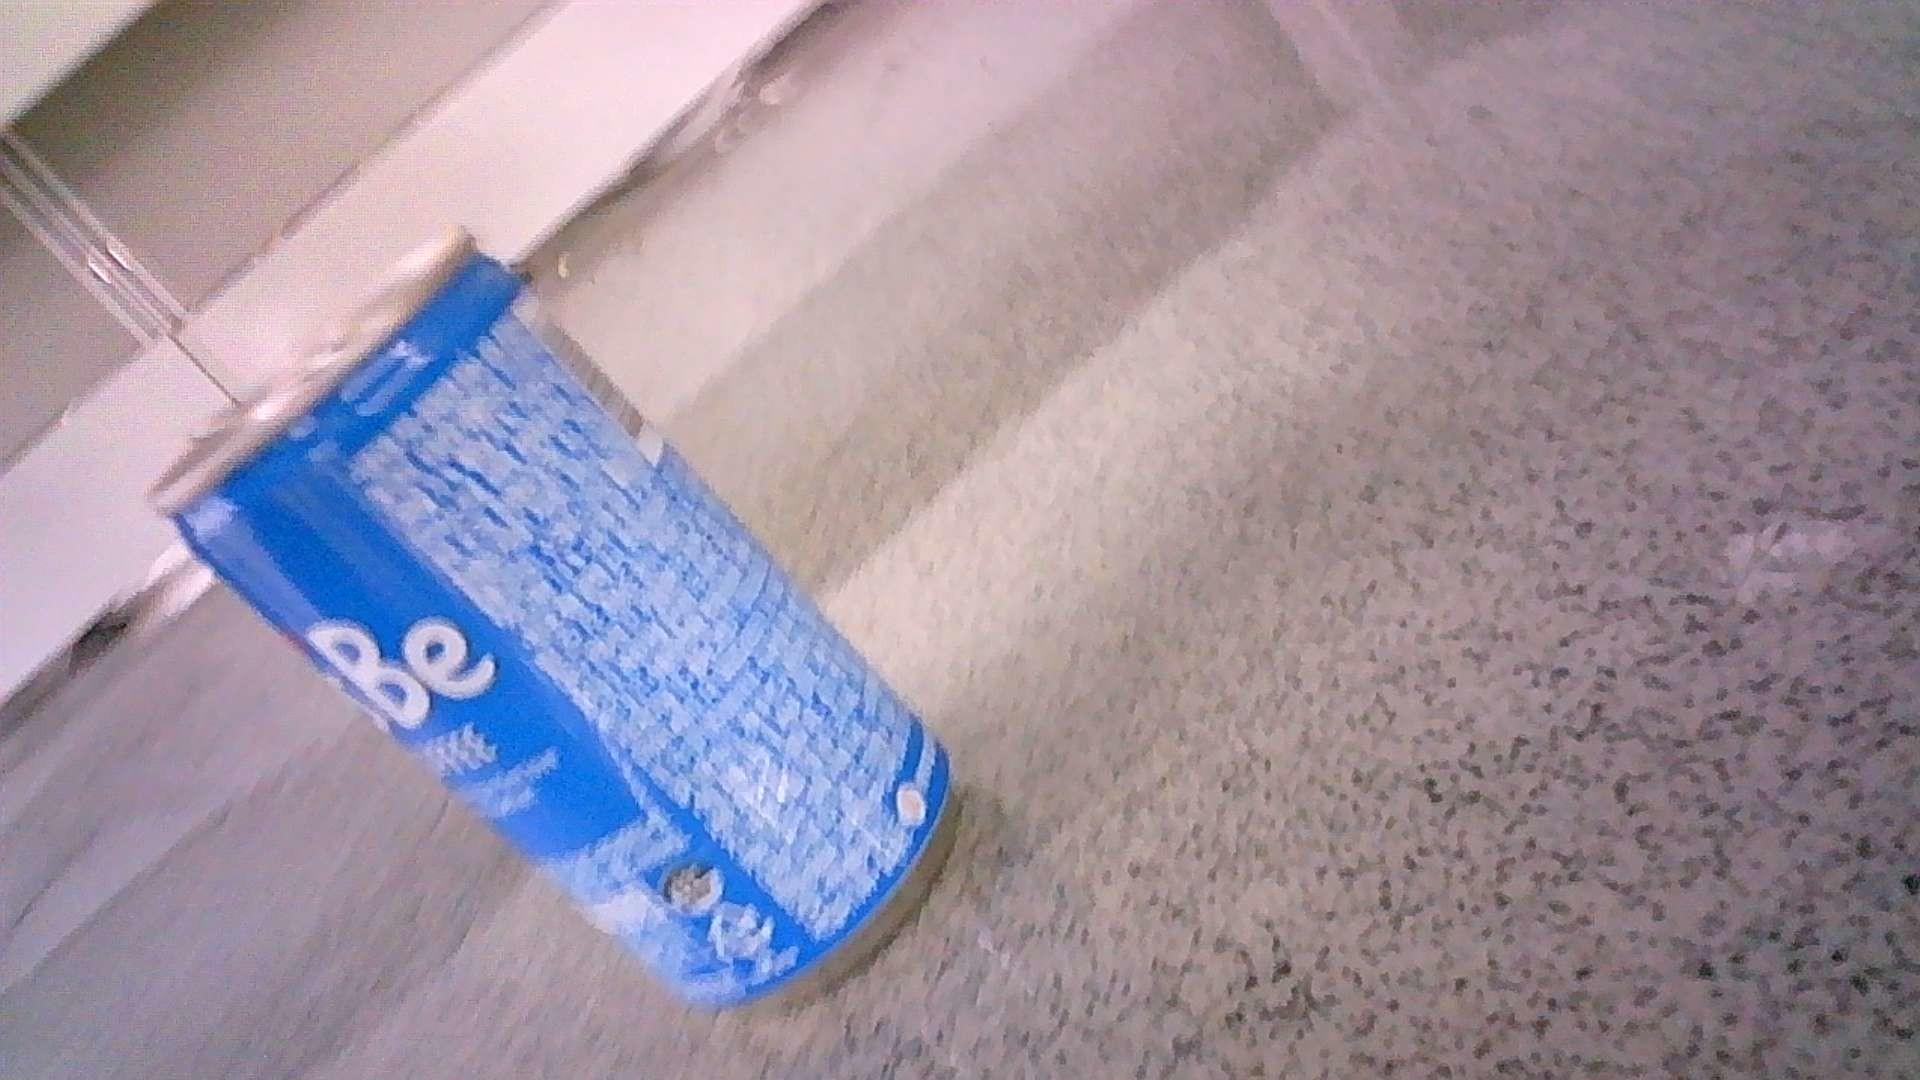letsbe: (149, 222, 956, 1009)
